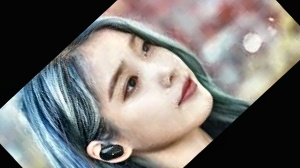earphone: (83, 122, 138, 168)
